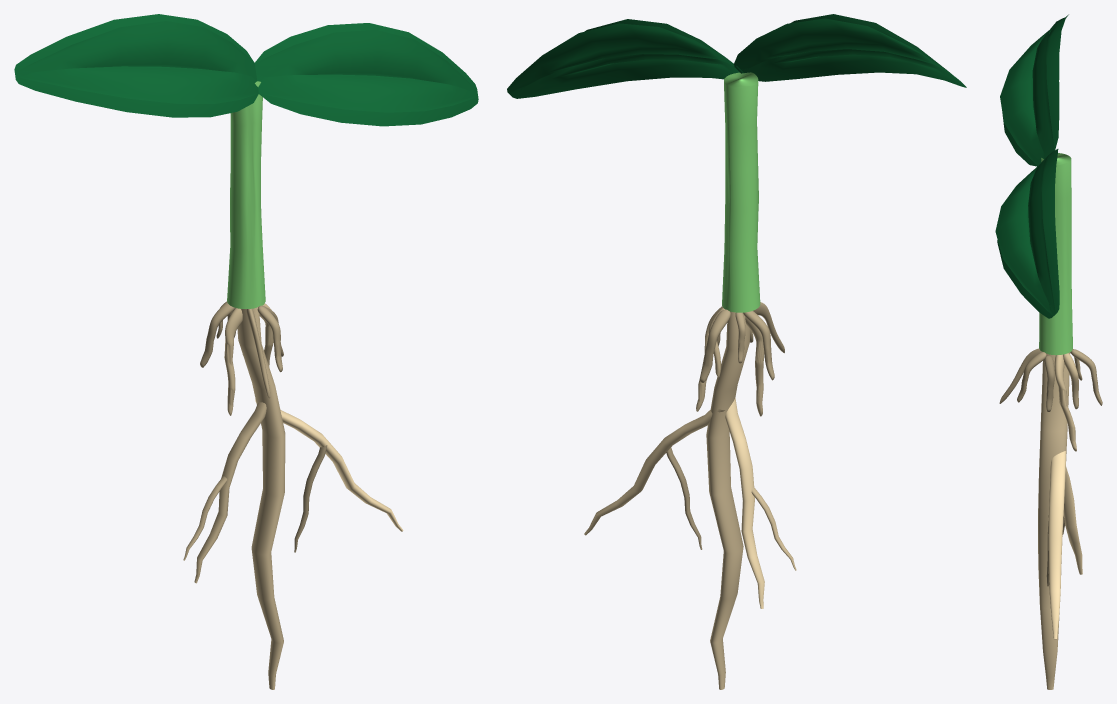
Rendered from Seedling_V6.glb.
The picture shows the model from 3 angles, left to right: view 1: azimuth 30°, elevation 25°; view 2: azimuth 150°, elevation 25°; view 3: azimuth 270°, elevation 25°; orthographic projection. The views are drawn at different scales.
Visible parts, largest first — view 1: Plane.006, Cylinder.020, Cylinder.030, Cylinder.022, Cylinder.021, Cube.027; view 2: Plane.006, Cylinder.030, Cylinder.020, Cylinder.022, Cylinder.021, Cube.024, Cube.027; view 3: Plane.006, Cylinder.020, Cylinder.030, Cylinder.021, Cylinder.022, Cube.026, Cube.022, Cube.024, Cube.020, Cube.019, Cube.021.
Boxes of the visible parts, bbox=[...] form: Plane.006: bbox=[14, 14, 478, 126]; Cylinder.020: bbox=[237, 307, 285, 689]; Cylinder.030: bbox=[227, 81, 265, 308]; Cylinder.022: bbox=[194, 402, 266, 583]; Cylinder.021: bbox=[255, 399, 403, 531]; Cube.027: bbox=[224, 308, 242, 415]; Plane.006: bbox=[507, 14, 966, 98]; Cylinder.030: bbox=[722, 72, 760, 312]; Cylinder.020: bbox=[706, 311, 750, 689]; Cylinder.022: bbox=[725, 398, 764, 608]; Cylinder.021: bbox=[584, 408, 724, 535]; Cube.024: bbox=[699, 309, 730, 382]; Cube.027: bbox=[745, 317, 764, 416]; Plane.006: bbox=[995, 14, 1068, 318]; Cylinder.020: bbox=[1038, 352, 1070, 689]; Cylinder.030: bbox=[1039, 153, 1072, 355]; Cylinder.021: bbox=[1048, 451, 1066, 639]; Cylinder.022: bbox=[1063, 467, 1082, 574]; Cube.026: bbox=[1054, 354, 1076, 451]; Cube.022: bbox=[1063, 353, 1078, 409]; Cube.024: bbox=[1070, 349, 1102, 405]; Cube.020: bbox=[1044, 355, 1054, 411]; Cube.019: bbox=[999, 348, 1042, 403]; Cube.021: bbox=[1017, 352, 1046, 402].
Size of the model in its own units: 2.37 by 3.46 by 0.5646.
